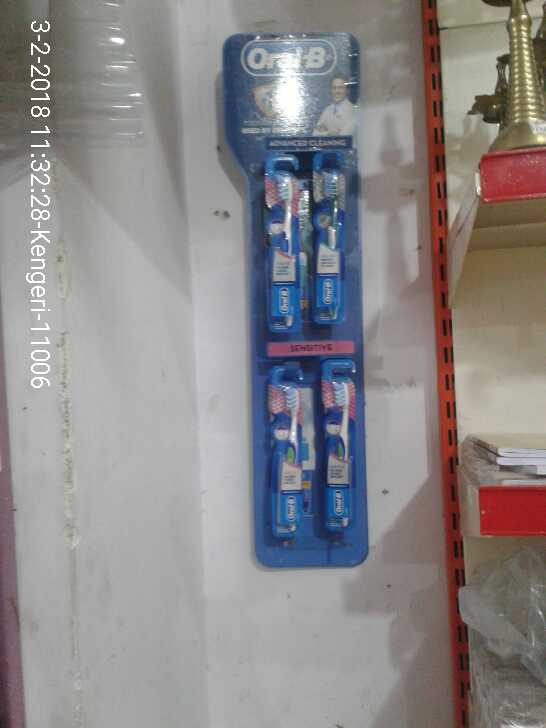oralb: (271, 379, 309, 540), (306, 164, 342, 323), (316, 376, 352, 532), (271, 176, 306, 323)
